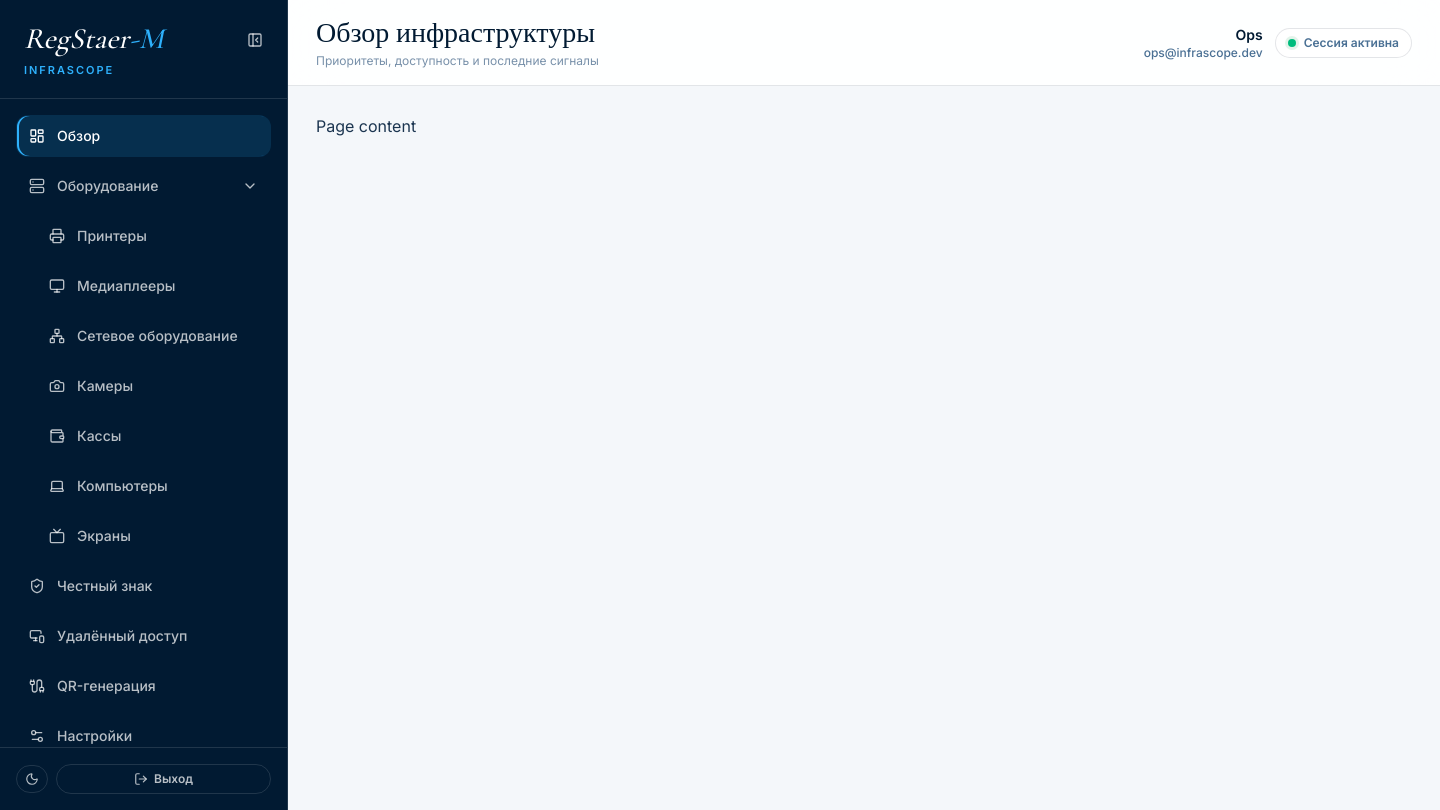
Test: Layout navigation › keeps Honest Sign outside the collapsible Equipment group
Note: collapse the group: its own items disappear, Honest Sign stays
Click the button "Оборудование".
click(144, 186)  # box [16,165,271,207]
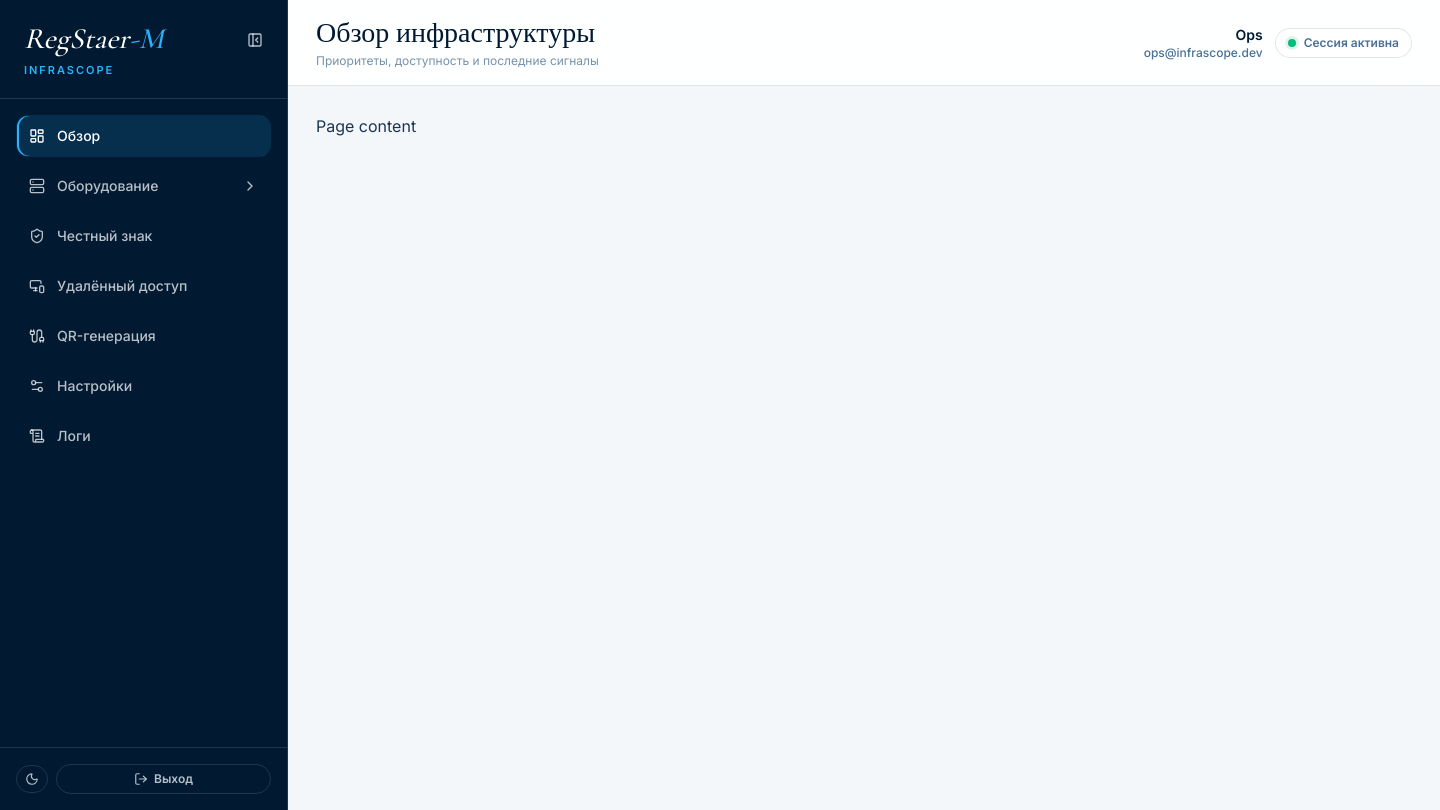
Expected: the link "Честный знак" is shown, [29,227,152,244]
Now no links "Принтеры" are shown
